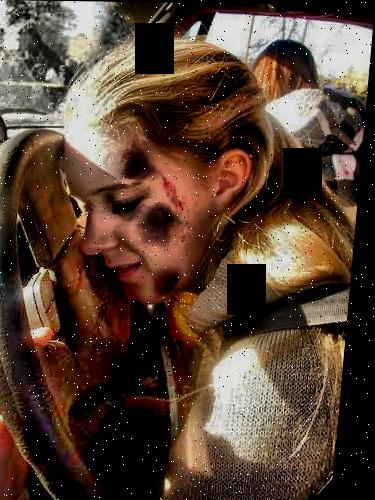seatbelt: (220, 260, 347, 349)
